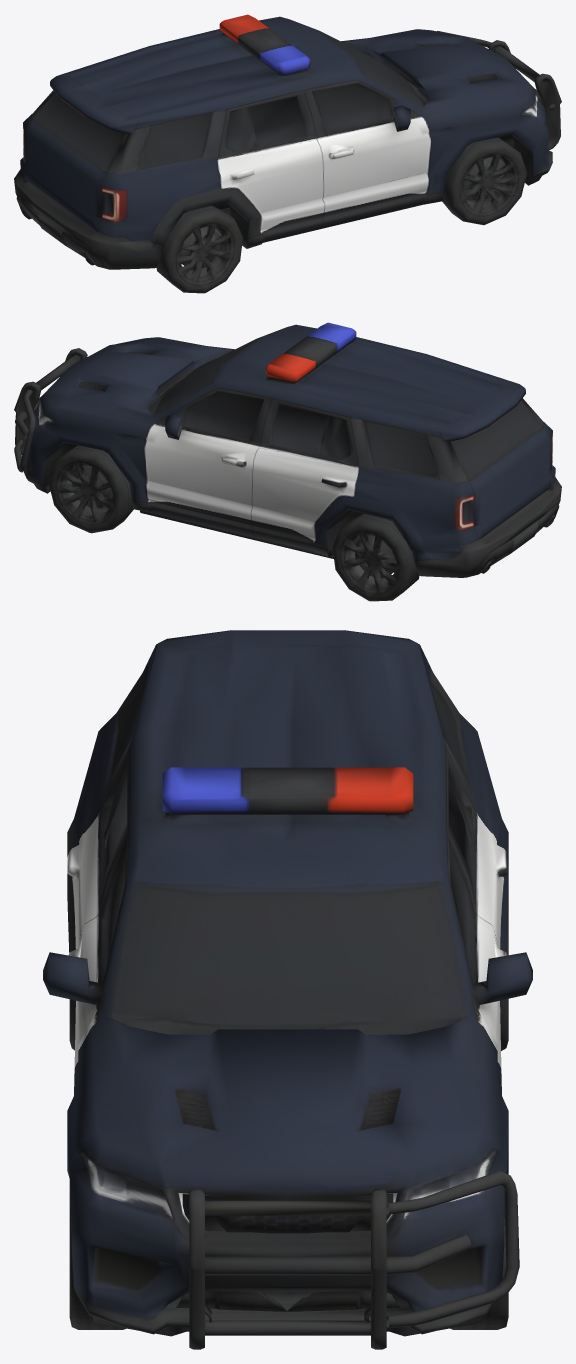
Rendered from police-suv-tripo.glb.
3 views of the same model, one above another, from view 1: azimuth 30°, elevation 25°; view 2: azimuth 150°, elevation 25°; view 3: azimuth 270°, elevation 25° (orthographic). The views are drawn at different scales.
Parts seen in each view (by area): view 1: tripo_node_19582a73-958b-41ca-88c4-f947f0a1d152; view 2: tripo_node_19582a73-958b-41ca-88c4-f947f0a1d152; view 3: tripo_node_19582a73-958b-41ca-88c4-f947f0a1d152.
Boxes of the visible parts, <box> form: tripo_node_19582a73-958b-41ca-88c4-f947f0a1d152: <box>14,14,561,293</box>; tripo_node_19582a73-958b-41ca-88c4-f947f0a1d152: <box>14,322,561,601</box>; tripo_node_19582a73-958b-41ca-88c4-f947f0a1d152: <box>43,630,532,1349</box>.
Size of the model in its own units: 0.998 by 0.3679 by 0.4325.
1 material, 1 textured.
